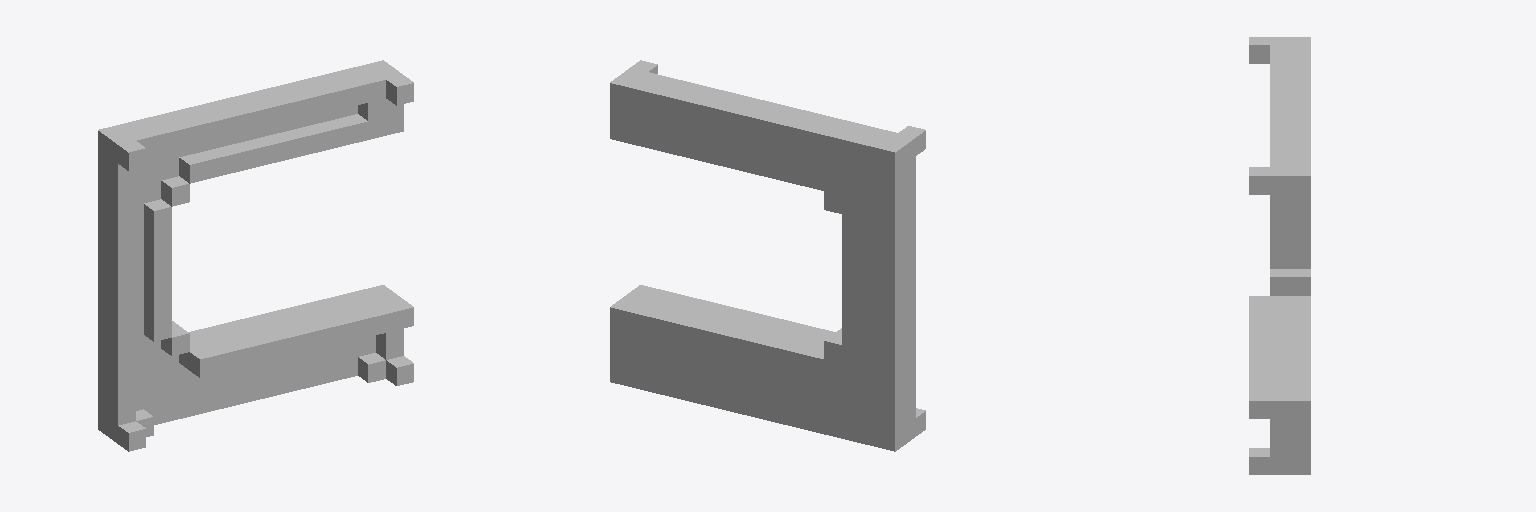
Rendered from wallWindowL.obj.
3 renders of one model, left to right at view 1: azimuth 30°, elevation 25°; view 2: azimuth 150°, elevation 25°; view 3: azimuth 270°, elevation 25°, orthographic.
Visible parts, largest first — view 1: object 1; view 2: object 1; view 3: object 1.
Boxes of the visible parts, box(x1,y1,x2,y2) form: object 1: box(98, 60, 413, 451); object 1: box(610, 60, 925, 451); object 1: box(1249, 37, 1310, 474).
Size of the model in its own units: 1.6 by 1.6 by 0.3.